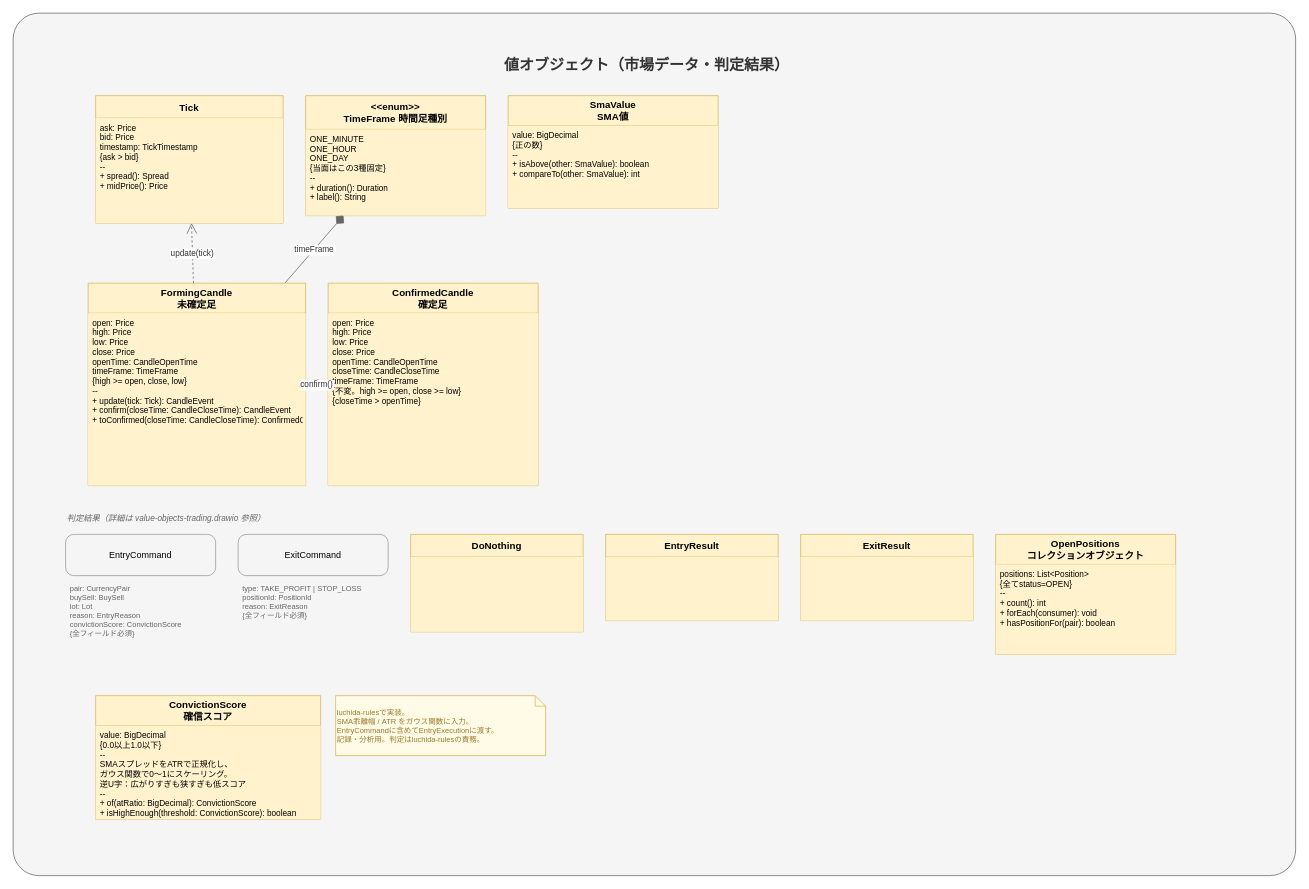
This 1309x889 diagram has some shape labels left out. The shapes that lost their labels are listed below. From the top down, each one's centre as x and y in pixels, then its label:
At point 496,594: "INSTANCE: DoNothing {シングルトン。 何もしないを型で表現。 nullの代わり}".
At point 691,588: "positionId: PositionId entryPrice: Price executedAt: Timestamp {全フィールド必須}".
At point 886,588: "exitPrice: Price executedAt: Timestamp profitLoss: Pips {全フィールド必須}".
